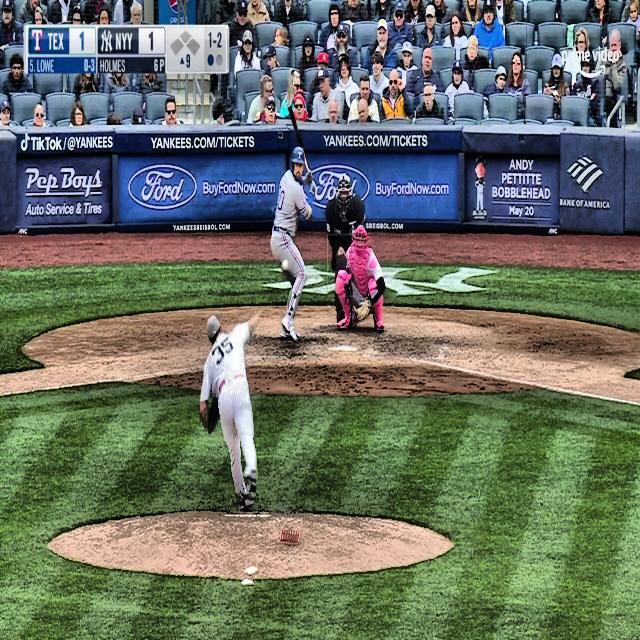baseball: (281, 258, 289, 271)
